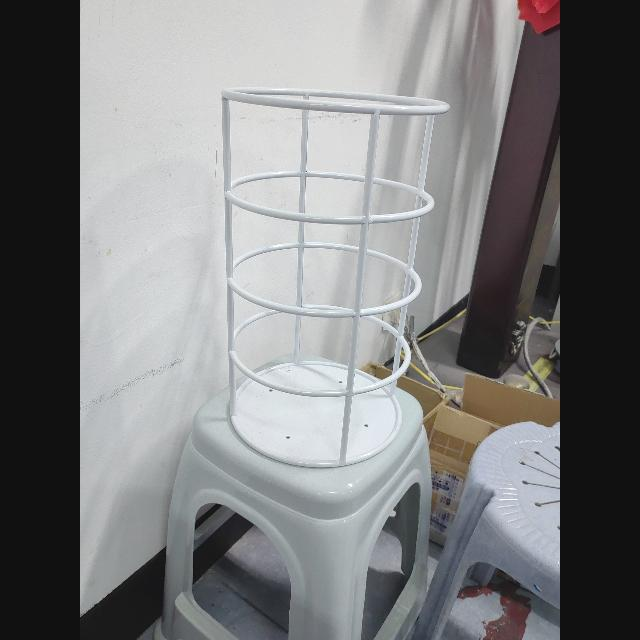S: (220, 83, 454, 473)
